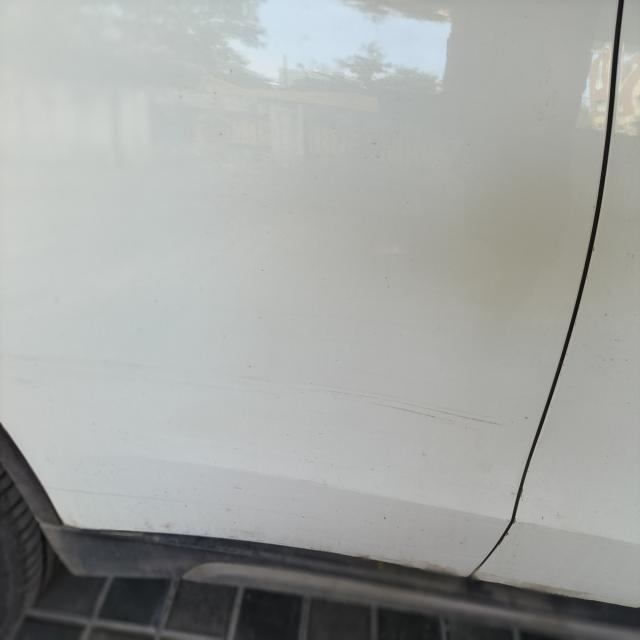scratch: (269, 376, 518, 435)
